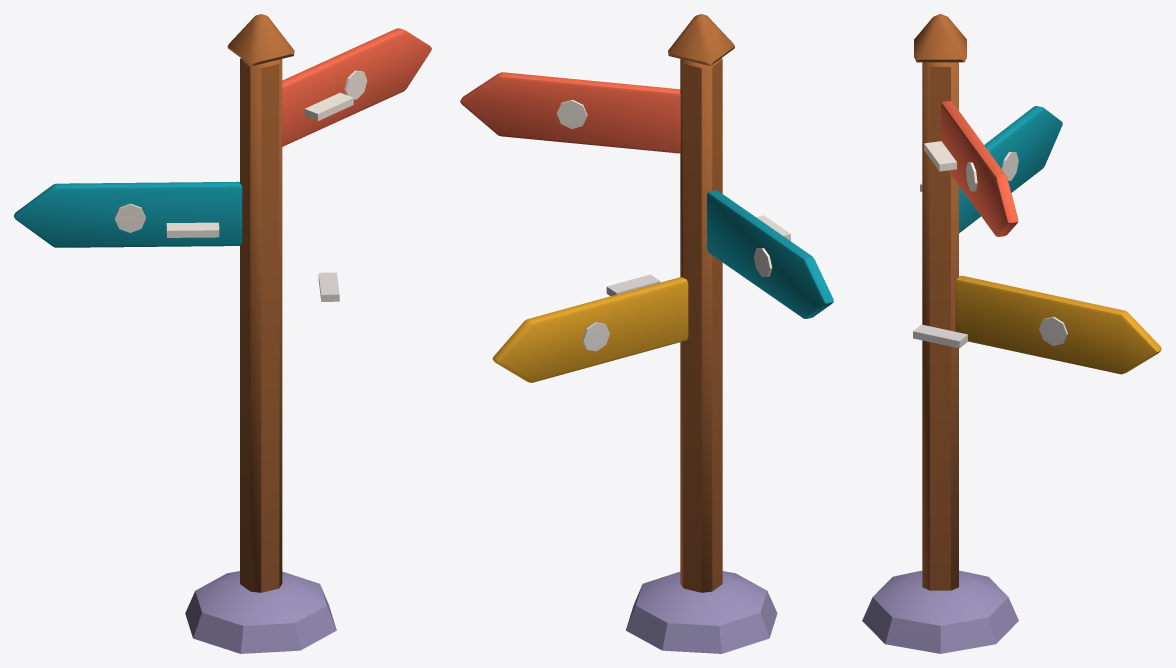
File: signpost.glb
3 views of the same model, side by side, from view 1: azimuth 30°, elevation 25°; view 2: azimuth 150°, elevation 25°; view 3: azimuth 270°, elevation 25° (orthographic).
Visible parts, largest first — view 1: signpost; view 2: signpost; view 3: signpost.
Part boxes in pixels (x1,y1,x2,y2): signpost: [14, 14, 431, 653]; signpost: [460, 14, 833, 653]; signpost: [862, 14, 1161, 653].
Size of the model in its own units: 1.74 by 2.56 by 1.15.
